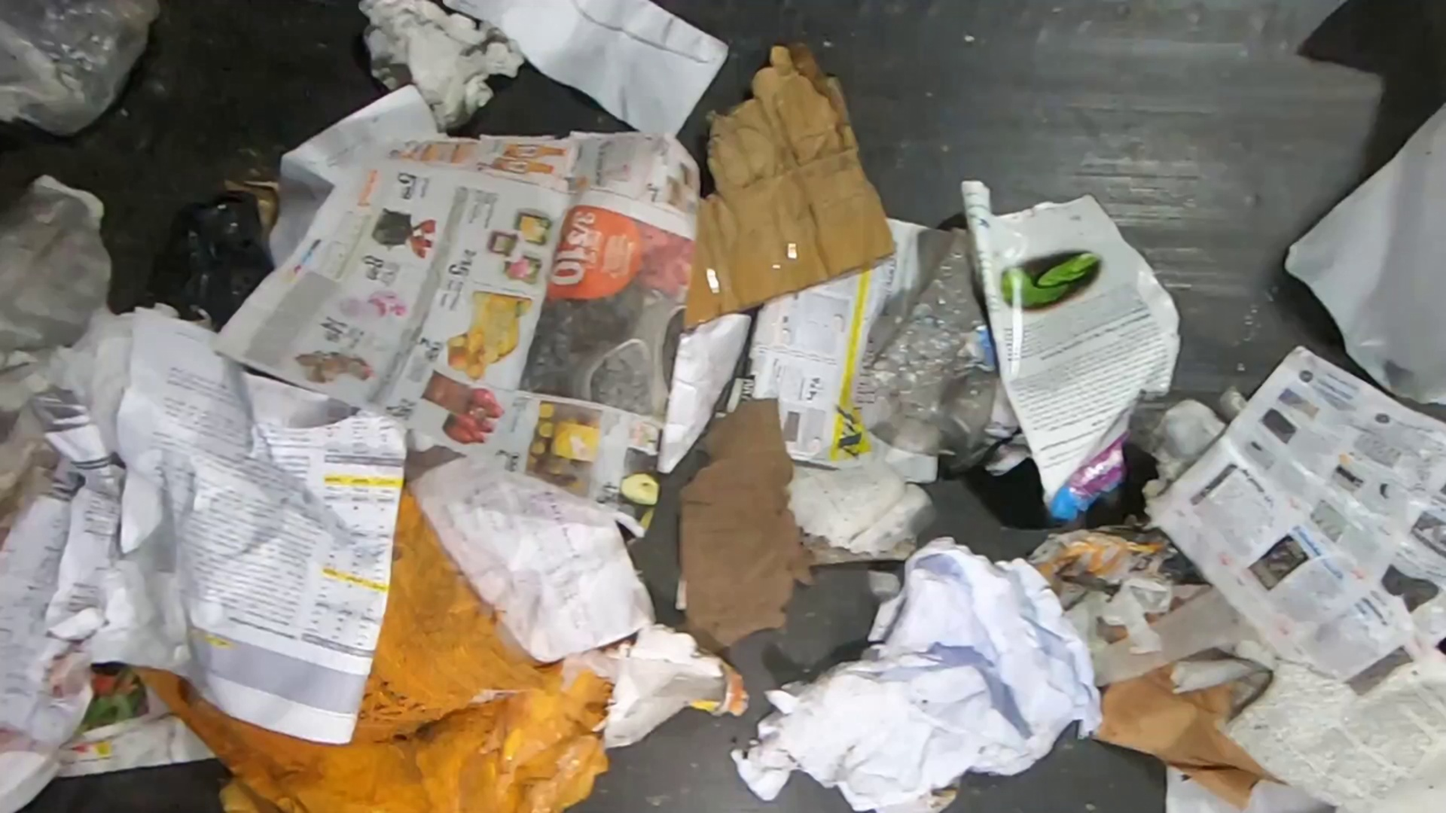cardboard: (125, 478, 615, 813), (681, 42, 898, 331), (356, 0, 528, 133)
plastic: (856, 226, 1001, 458), (0, 0, 163, 139), (144, 196, 276, 334)
